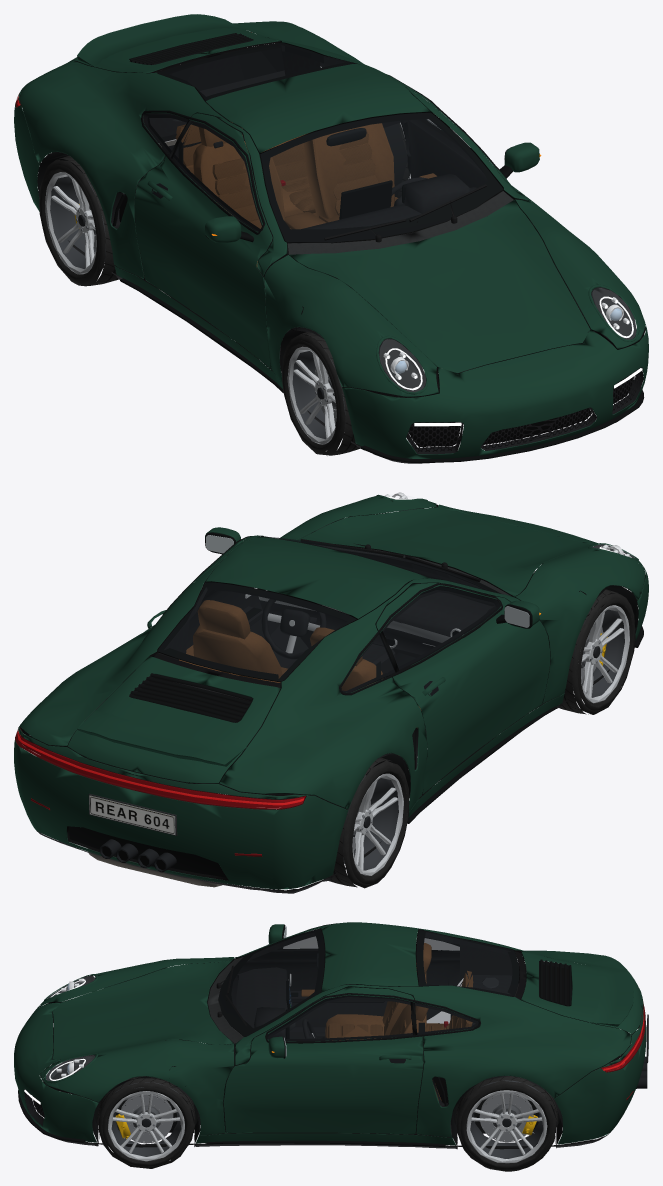
File: rear-engine-sports-coupe.glb
3 views of the same model, one above another, from view 1: azimuth 30°, elevation 25°; view 2: azimuth 150°, elevation 25°; view 3: azimuth 270°, elevation 25° (orthographic). The views are drawn at different scales.
Parts seen in each view (by area): view 1: Body, Wheel_RR, Wheel_FR; view 2: Body, Wheel_RR, Wheel_FR, Steering_Wheel; view 3: Body, Wheel_RL, Wheel_FL.
Part boxes in pixels (x1=…): Body: x1=14, y1=14, x2=648, y2=463; Wheel_RR: x1=39, y1=155, x2=118, y2=286; Wheel_FR: x1=282, y1=332, x2=361, y2=455; Body: x1=14, y1=492, x2=648, y2=893; Wheel_RR: x1=324, y1=757, x2=409, y2=888; Wheel_FR: x1=556, y1=589, x2=635, y2=714; Steering_Wheel: x1=261, y1=599, x2=326, y2=659; Body: x1=14, y1=922, x2=648, y2=1149; Wheel_RL: x1=455, y1=1076, x2=557, y2=1171; Wheel_FL: x1=97, y1=1076, x2=195, y2=1168.
Bounding box in the file's own units: 1.99 × 1.26 × 4.33.
60 materials, 11 textured.
